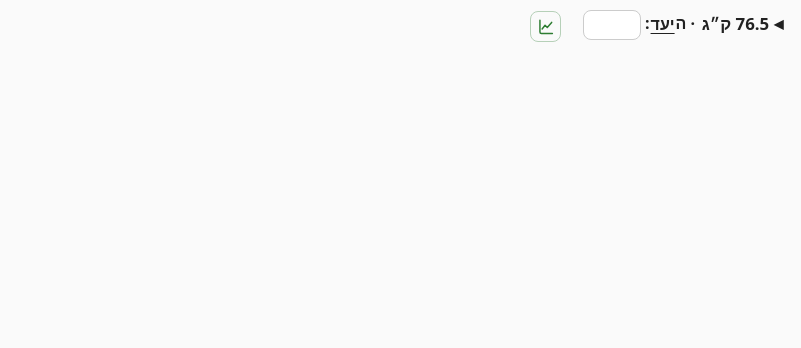
Test case: opening fold › opens and closes from the framed button, the line's one shape reading as a control
Click the button named "גרף המשקל": click(546, 27) [530,11,561,42]
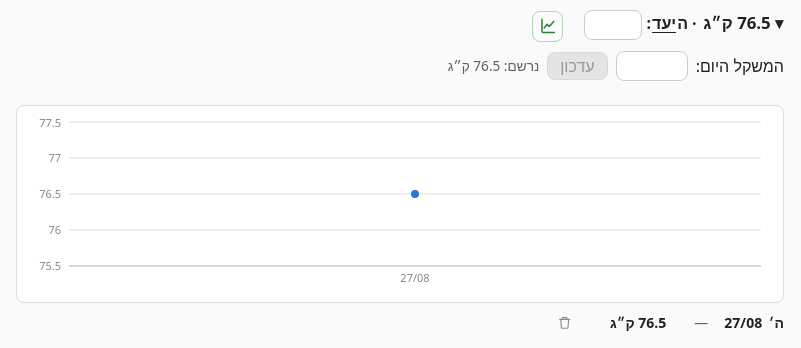
Expected: the button named "גרף המשקל" is expanded
Expected: the number field named "המשקל היום" is shown, [616,51,688,81]
Click the button named "גרף המשקל": click(547, 26) [532,11,563,42]
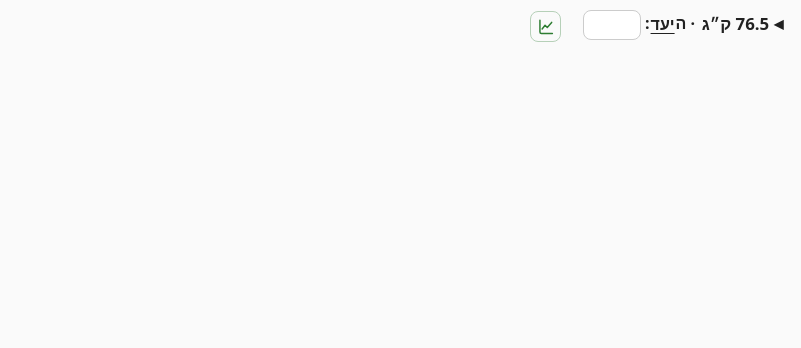
Expected: the button named "גרף המשקל" is collapsed, [530,11,561,42]
Expected: the text labelled "המשקל היום" is gone
